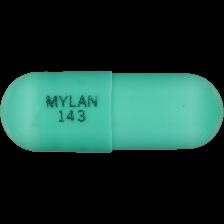10544-234: (0, 0, 224, 224)
